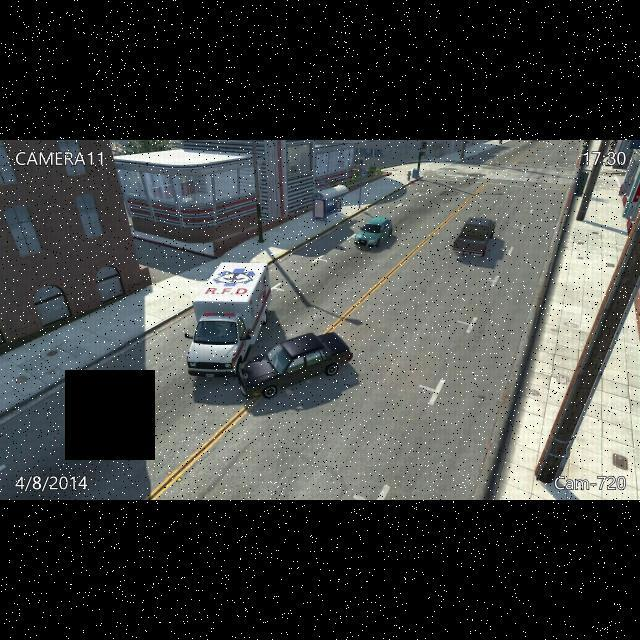moderate: (182, 260, 355, 400)
